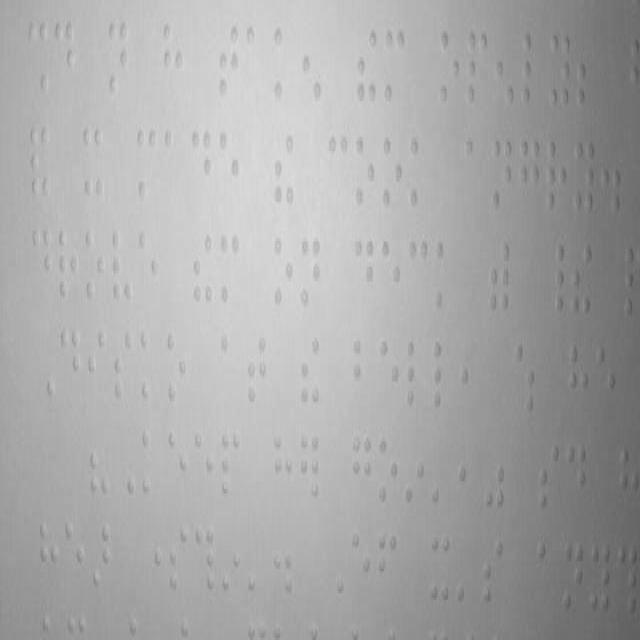braiile: (269, 15, 301, 109), (546, 28, 576, 119), (544, 128, 572, 224), (380, 18, 408, 112), (490, 127, 518, 220), (519, 22, 545, 120), (134, 128, 162, 219), (465, 26, 493, 116), (58, 324, 86, 414), (189, 129, 217, 218), (297, 227, 325, 316), (158, 18, 186, 106), (438, 24, 464, 118), (572, 131, 598, 225), (216, 19, 244, 106), (80, 118, 108, 205), (135, 225, 163, 312), (408, 128, 436, 214), (217, 228, 245, 314), (111, 328, 139, 414), (352, 332, 381, 414), (518, 126, 542, 225), (463, 128, 489, 219), (352, 134, 382, 212), (217, 129, 243, 218), (352, 228, 376, 324), (379, 128, 407, 210), (56, 223, 82, 310), (432, 338, 460, 418), (404, 338, 432, 418), (108, 226, 134, 312), (568, 336, 592, 428), (162, 128, 186, 219), (246, 326, 270, 416), (86, 324, 110, 414), (244, 20, 268, 109), (30, 220, 54, 309), (83, 222, 107, 311), (139, 424, 165, 506), (52, 18, 76, 106), (379, 234, 403, 322), (406, 232, 430, 319), (327, 126, 351, 212), (270, 230, 294, 316), (594, 338, 618, 422), (380, 334, 404, 416), (219, 332, 243, 414), (140, 328, 164, 410), (166, 424, 190, 506), (192, 424, 216, 506), (218, 424, 242, 506), (352, 430, 376, 512), (376, 428, 400, 510), (107, 15, 129, 104), (433, 235, 457, 316), (165, 328, 188, 410), (274, 428, 294, 506)
